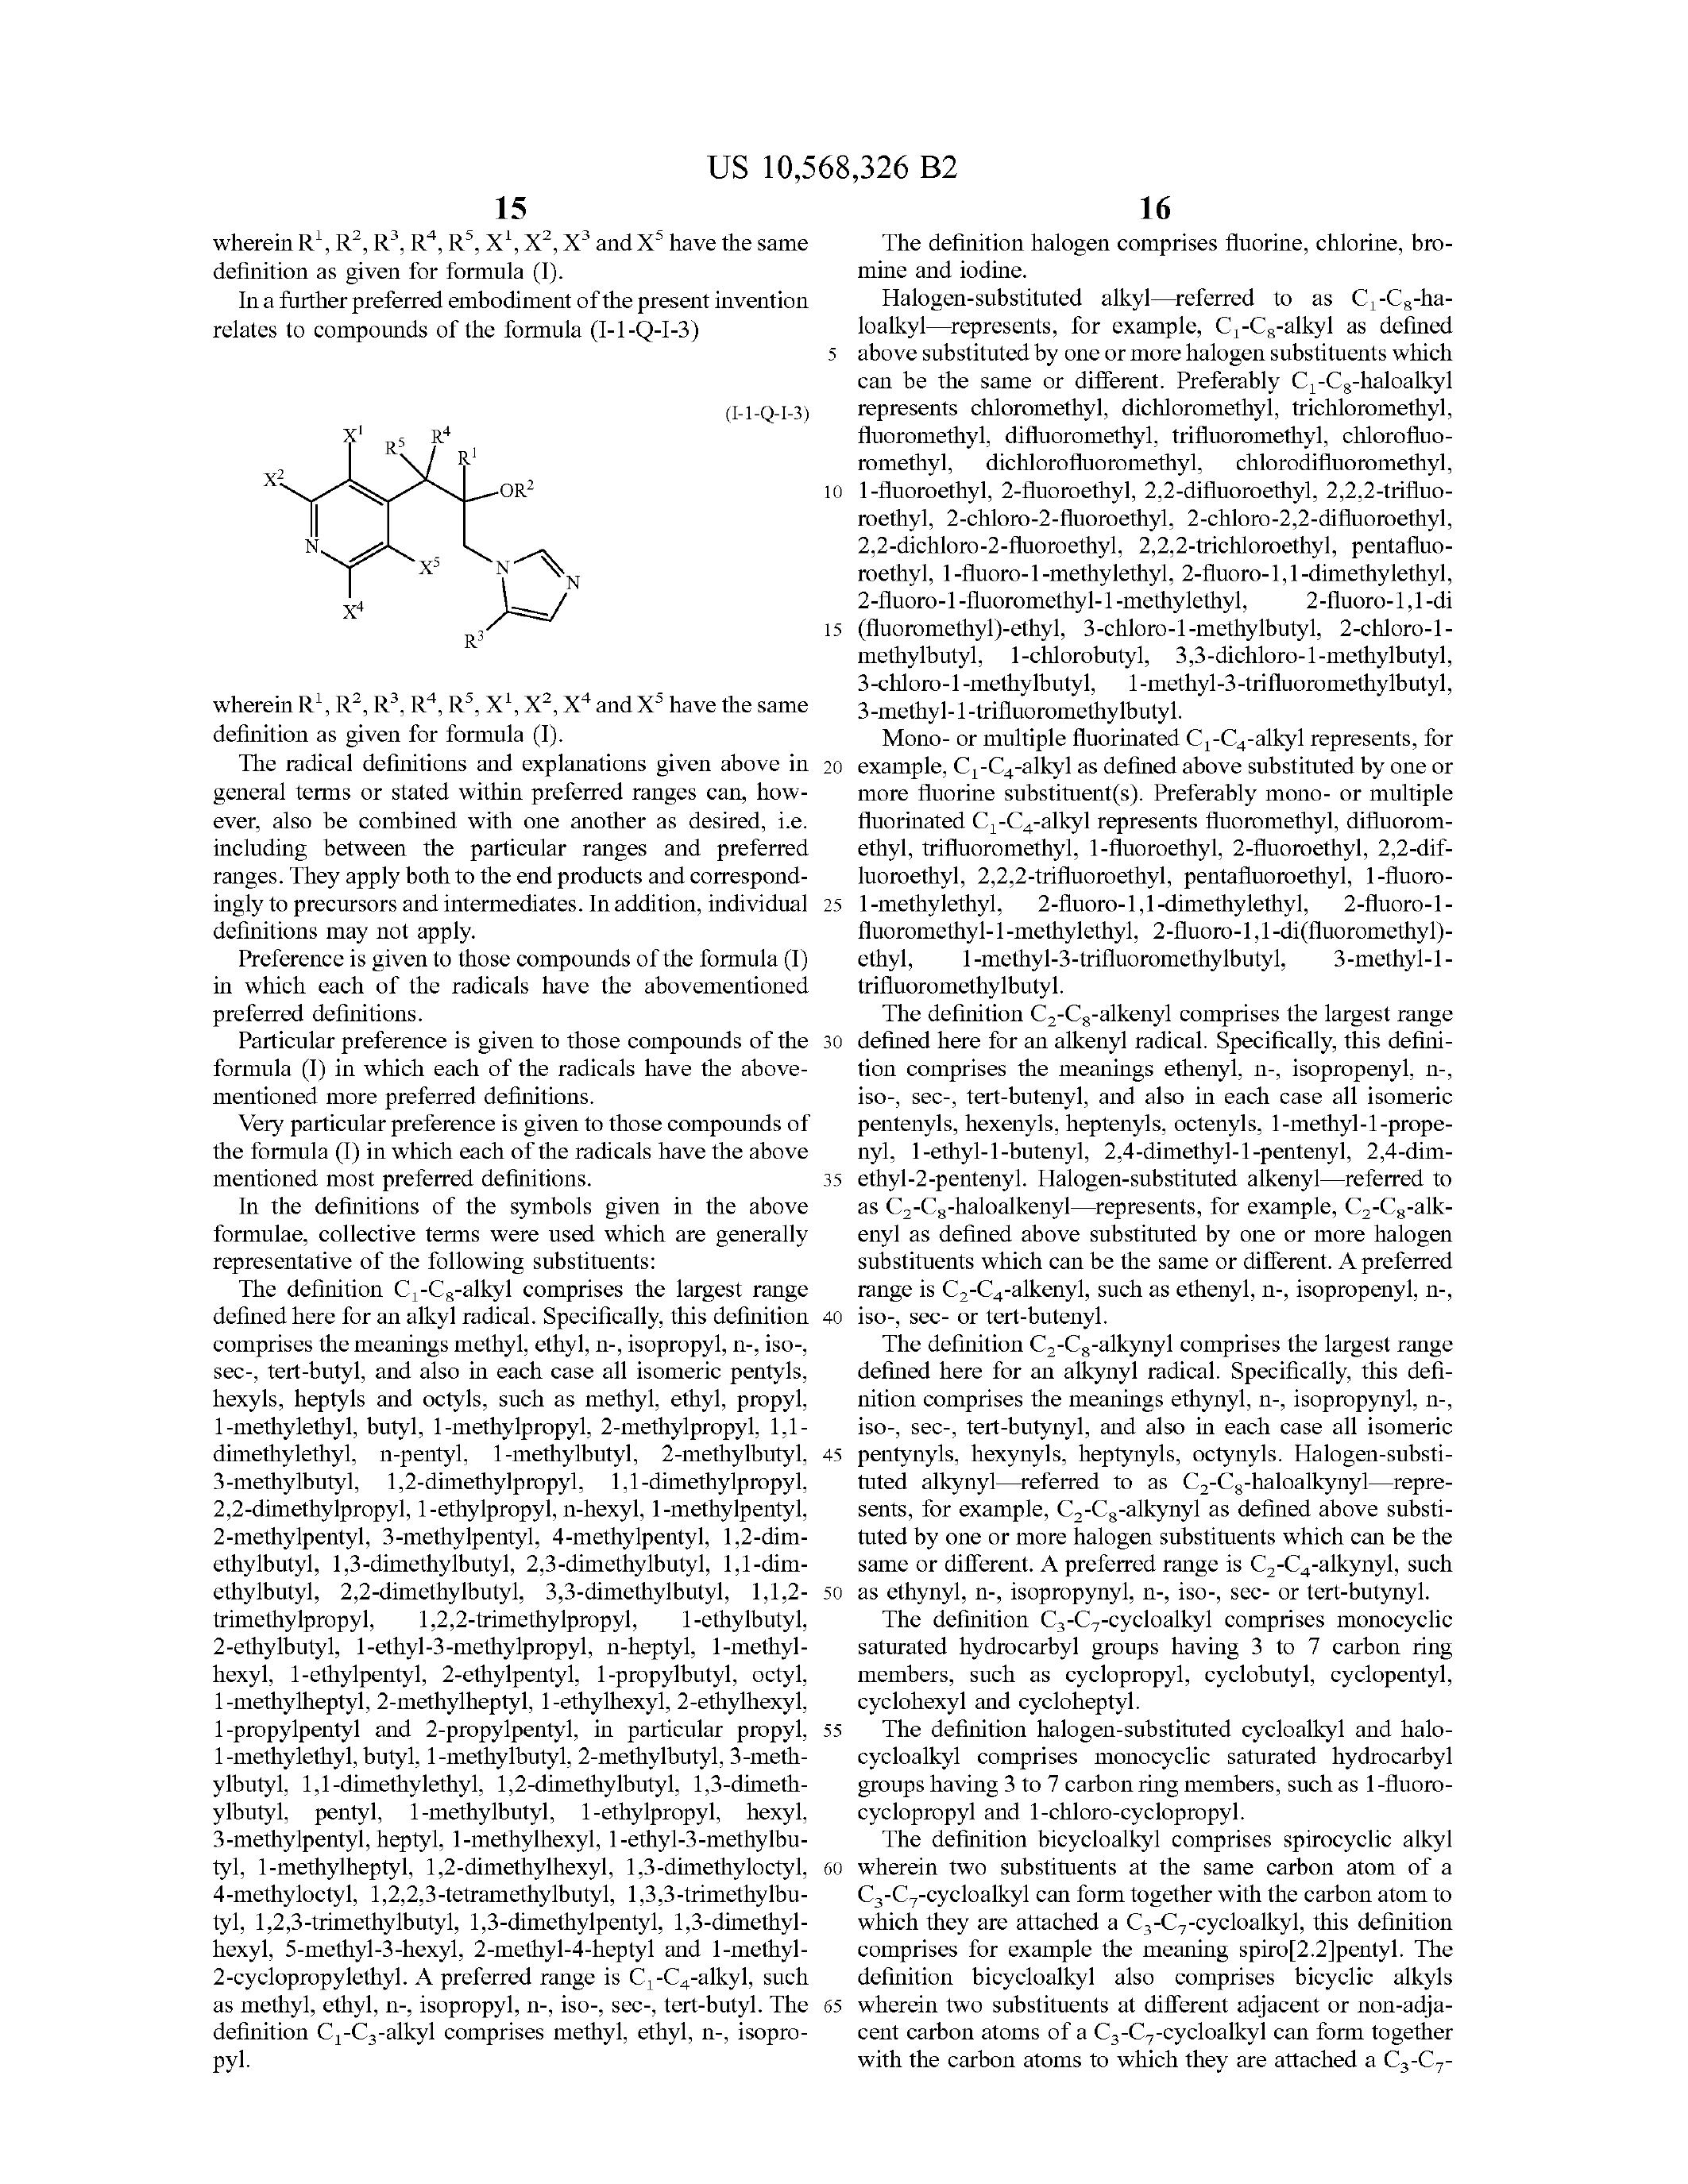markush-structures: (252, 365, 633, 668)
